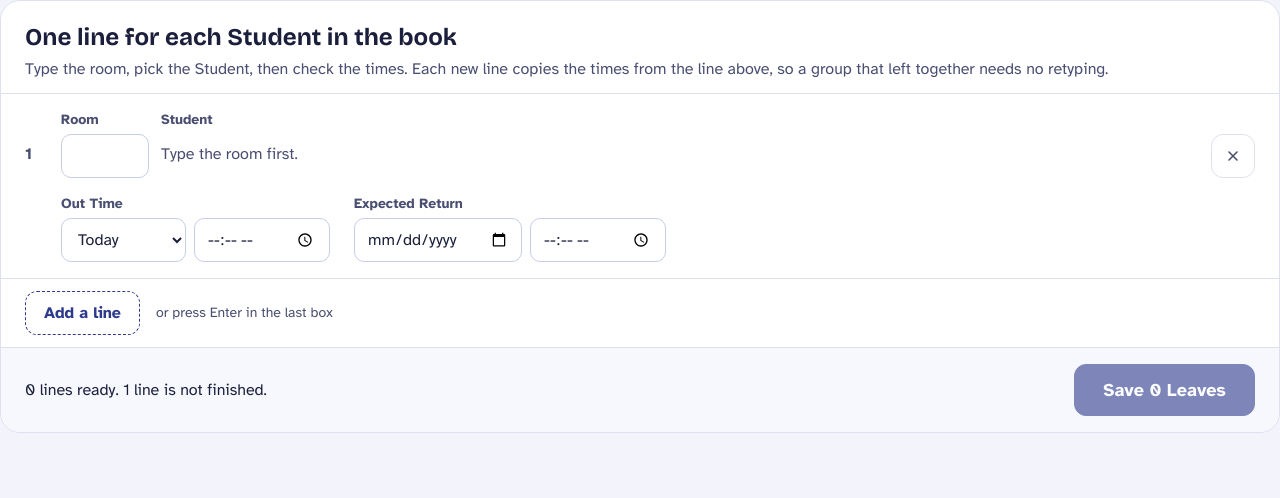
Test: the Going-to-Home Book › suggests the Students in the rooms typed and puts the one picked on the line
Type "21" into the field named "Room, line 1".
click(105, 156); type("21")  # box 61,134 -> 149,178
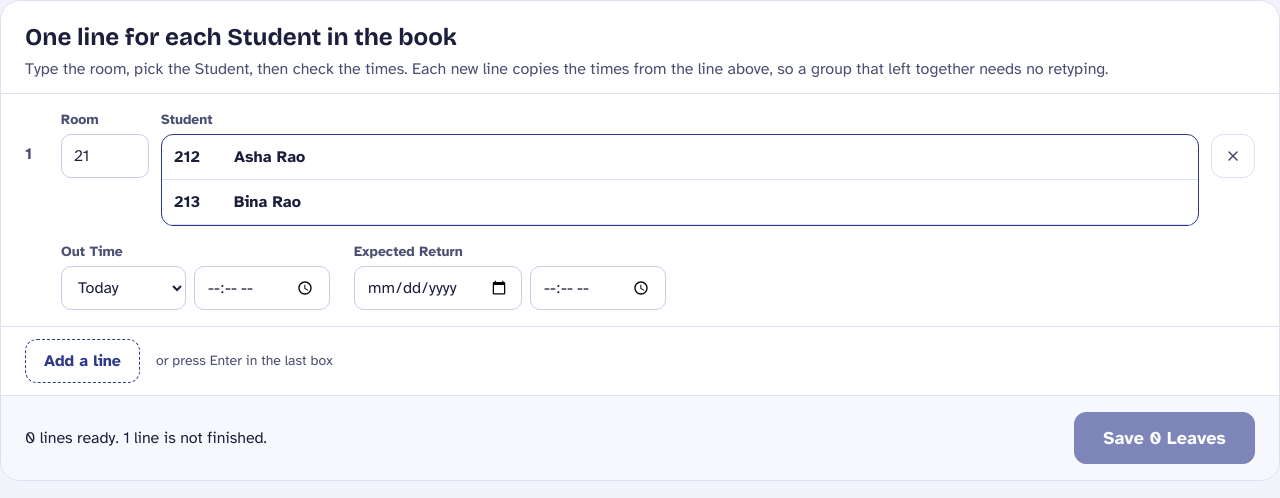
expect the button with aria-label "Bina Rao, room 213" is shown: met, box 162,180 -> 1198,224
Click the button with aria-label "Asha Rao, room 212".
click(270, 157)  # box 162,135 -> 1198,179
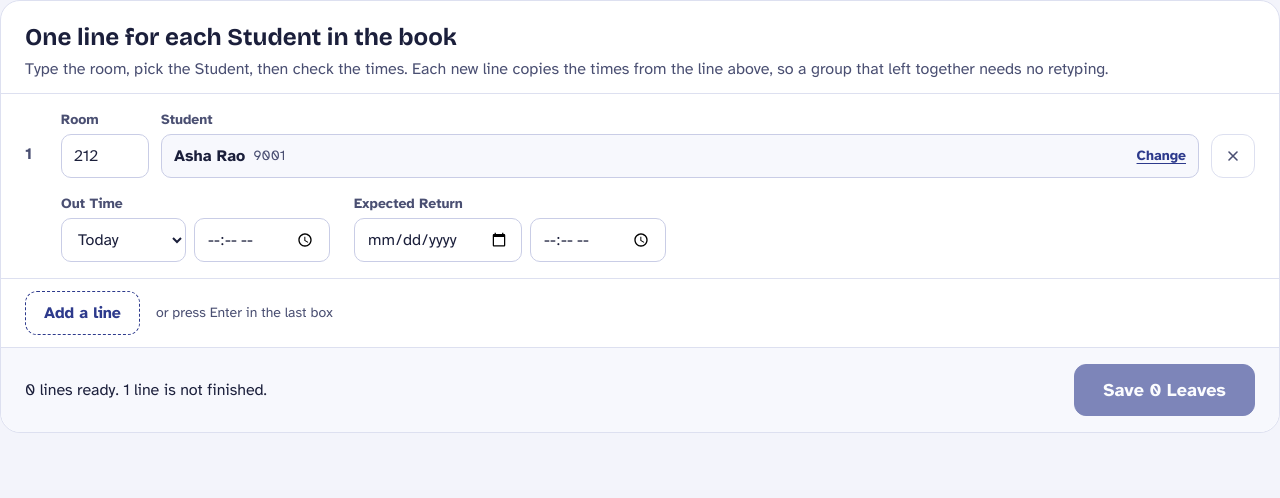
expect the text "Asha Rao" is shown: met, box 174,144 -> 245,168
expect the field named "Room, line 1" holds "212": met, box 61,134 -> 149,178
